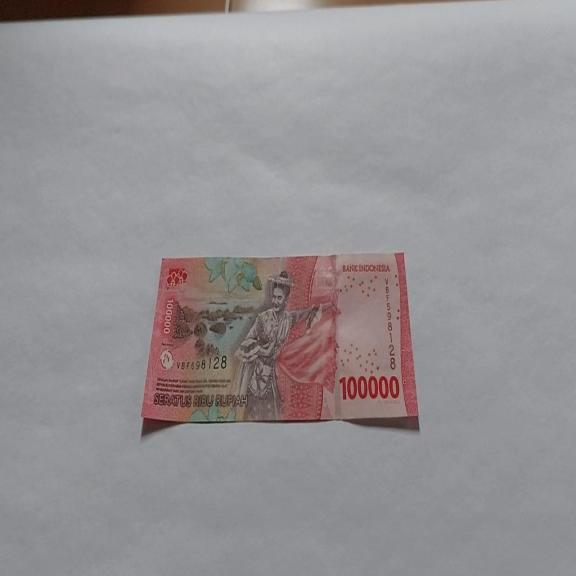Kertas: (140, 250, 420, 429), (338, 372, 400, 402)
